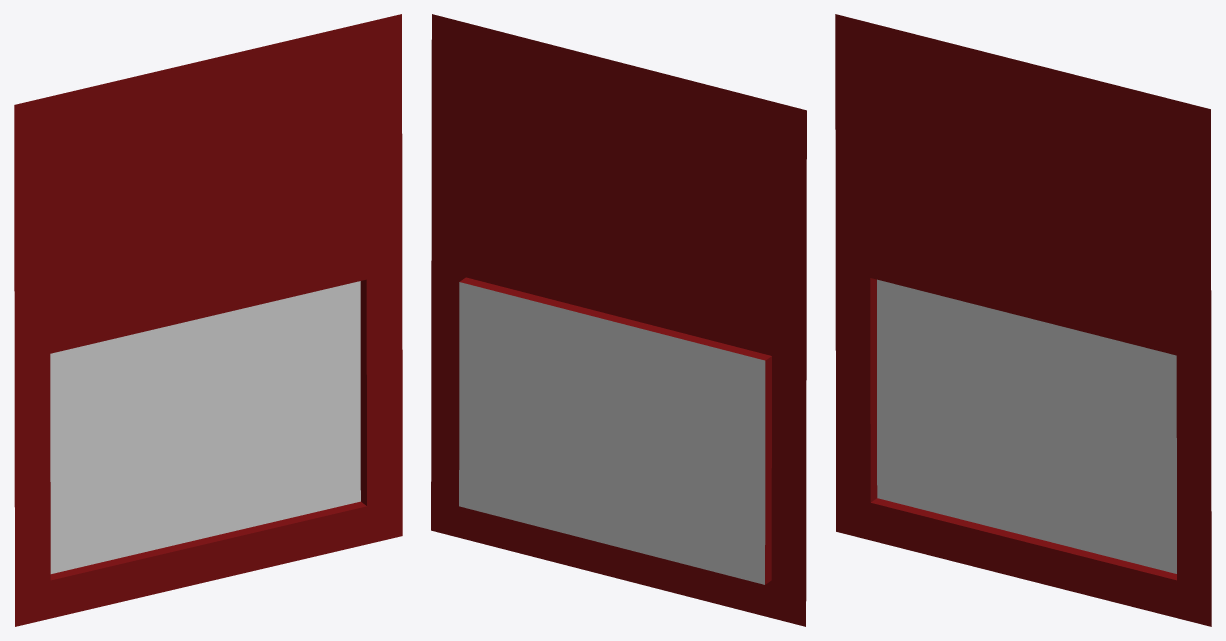
File: backwall_vproom 1.fbx
The picture shows the model from 3 angles, left to right: view 1: azimuth 30°, elevation 25°; view 2: azimuth 150°, elevation 25°; view 3: azimuth 330°, elevation 25°; orthographic projection.
Visible parts, largest first — view 1: BackWall(Destructable); view 2: BackWall(Destructable); view 3: BackWall(Destructable).
Part boxes in pixels (box(x1,y1,x2,y2)): BackWall(Destructable): box(14, 14, 402, 626); BackWall(Destructable): box(431, 14, 806, 626); BackWall(Destructable): box(835, 14, 1211, 626).
Size of the model in its own units: 19001 by 24712 by 892.
